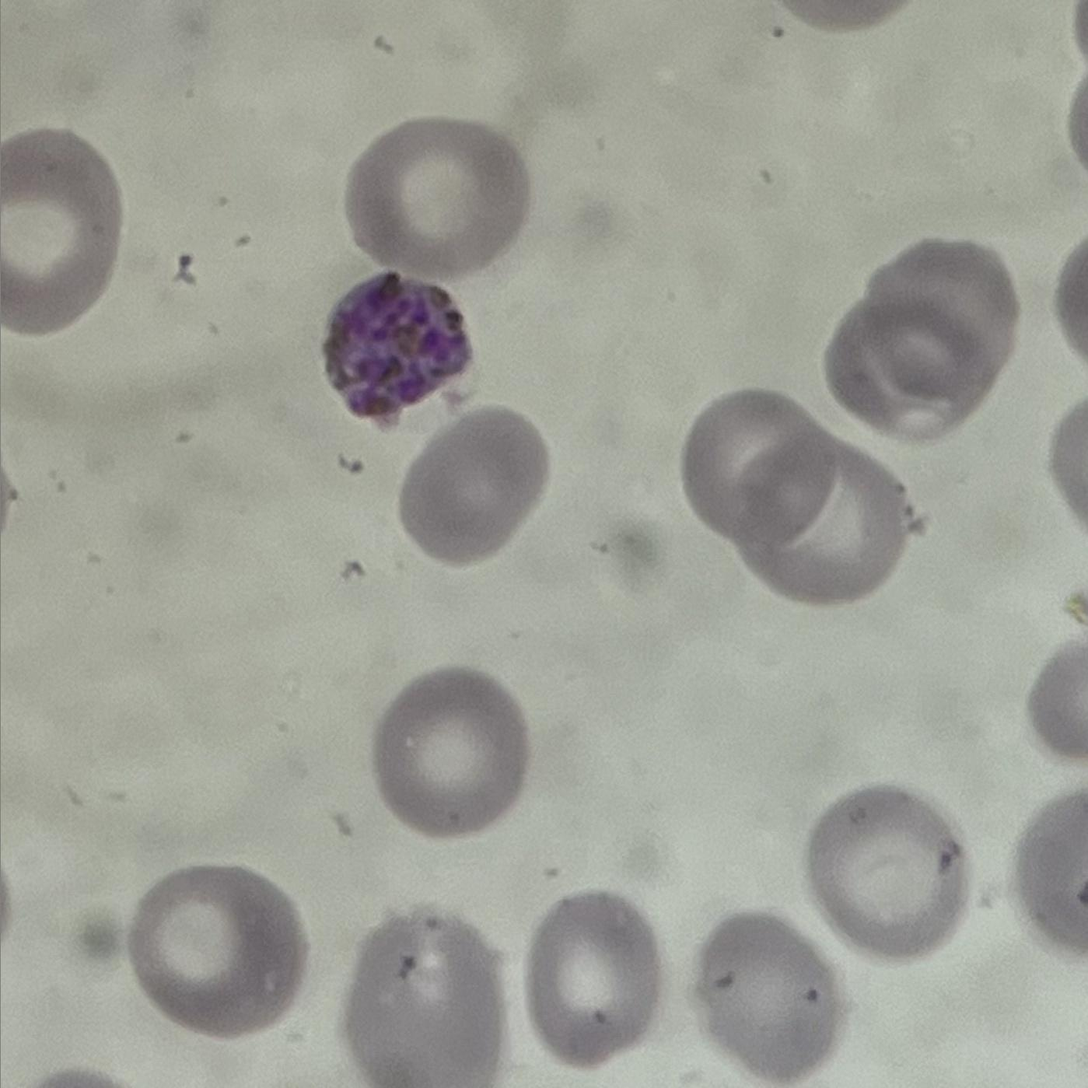Infected: (321, 270, 474, 425)
Uninfected: (119, 864, 301, 1037), (345, 115, 522, 279), (801, 789, 966, 962), (0, 128, 128, 343), (736, 442, 906, 599), (345, 913, 493, 1088), (373, 665, 525, 833), (684, 913, 833, 1080), (684, 385, 836, 542), (876, 229, 1025, 383), (397, 410, 548, 561), (824, 294, 980, 440), (534, 882, 655, 1068)
